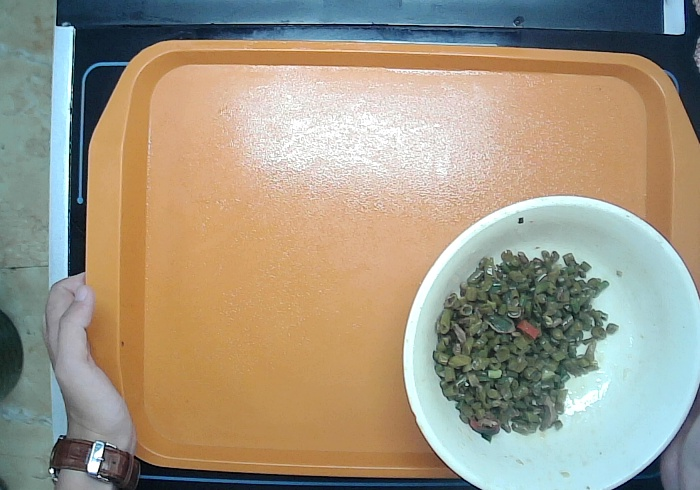ZNLD-Da_Tang_Wan: (401, 192, 700, 490)
